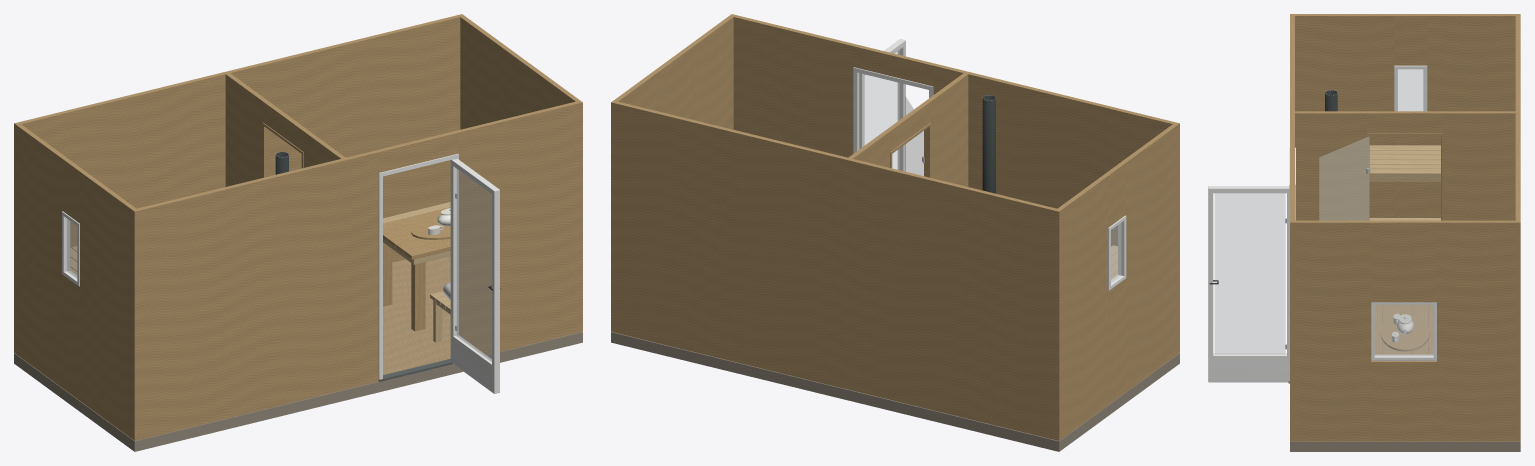
3 renders of one model, left to right at view 1: azimuth 30°, elevation 25°; view 2: azimuth 150°, elevation 25°; view 3: azimuth 270°, elevation 25°, orthographic. The views are drawn at different scales.
Visible parts, largest first — view 1: ПГ1 wall, ПГ2 wall, ПГ3 wall, DachaPar_15, Hinge_DP01-D02, ПГ4 wall, ПГ5 wall, С1 table, Door entry p1_i672, Window p1_i739, Л2 bench, Door steam p1_i671; view 2: ПГ2 wall, ПГ1 wall, ПГ3 wall, ПГ4 wall, DachaPar_15, ПГ5 wall, Hinge_DP01-D02, ASTON dimensioned stove and remote firebox, Window p1_i739, Door entry p1_i672, Hinge_DP01-D01, Door steam p1_i671; view 3: ПГ4 wall, ПГ3 wall, ПГ5 wall, Hinge_DP01-D02, Window p1_i742, Hinge_DP01-D01, С1 table, DachaPar_15, ПГ2 wall, ВП2 upper, ПГ1 wall, Window p1_i739 (+2 smaller).
Boxes of the visible parts, x1=… form: ПГ1 wall: x1=132, y1=100, x2=582, y2=440; ПГ2 wall: x1=14, y1=14, x2=464, y2=354; ПГ3 wall: x1=16, y1=124, x2=136, y2=438; DachaPar_15: x1=14, y1=256, x2=582, y2=451; Hinge_DP01-D02: x1=450, y1=159, x2=500, y2=393; ПГ4 wall: x1=460, y1=16, x2=579, y2=129; ПГ5 wall: x1=225, y1=73, x2=345, y2=186; С1 table: x1=383, y1=207, x2=450, y2=331; Door entry p1_i672: x1=378, y1=153, x2=458, y2=381; Window p1_i739: x1=62, y1=211, x2=79, y2=286; Л2 bench: x1=430, y1=282, x2=450, y2=342; Door steam p1_i671: x1=262, y1=122, x2=303, y2=177; ПГ2 wall: x1=611, y1=100, x2=1061, y2=440; ПГ1 wall: x1=729, y1=14, x2=1179, y2=354; ПГ3 wall: x1=1057, y1=124, x2=1177, y2=438; ПГ4 wall: x1=614, y1=16, x2=733, y2=129; DachaPar_15: x1=611, y1=332, x2=1179, y2=451; ПГ5 wall: x1=848, y1=73, x2=968, y2=186; Hinge_DP01-D02: x1=859, y1=39, x2=905, y2=171; ASTON dimensioned stove and remote firebox: x1=982, y1=95, x2=995, y2=193; Window p1_i739: x1=1108, y1=215, x2=1126, y2=290; Door entry p1_i672: x1=853, y1=67, x2=933, y2=153; Hinge_DP01-D01: x1=905, y1=95, x2=923, y2=175; Door steam p1_i671: x1=890, y1=122, x2=931, y2=177; ПГ4 wall: x1=1295, y1=220, x2=1515, y2=441; ПГ3 wall: x1=1295, y1=14, x2=1515, y2=217; ПГ5 wall: x1=1295, y1=111, x2=1515, y2=220; Hinge_DP01-D02: x1=1208, y1=186, x2=1289, y2=382; Window p1_i742: x1=1371, y1=302, x2=1436, y2=360; Hinge_DP01-D01: x1=1319, y1=137, x2=1370, y2=220; С1 table: x1=1374, y1=306, x2=1433, y2=354; DachaPar_15: x1=1290, y1=304, x2=1520, y2=451; ПГ2 wall: x1=1515, y1=14, x2=1520, y2=441; ВП2 upper: x1=1369, y1=145, x2=1440, y2=176; ПГ1 wall: x1=1290, y1=14, x2=1294, y2=441; Window p1_i739: x1=1394, y1=65, x2=1427, y2=111.
Size of the model in its own units: 4.51 by 2.31 by 2.84.
Materials: 27 (9 with a texture image).
